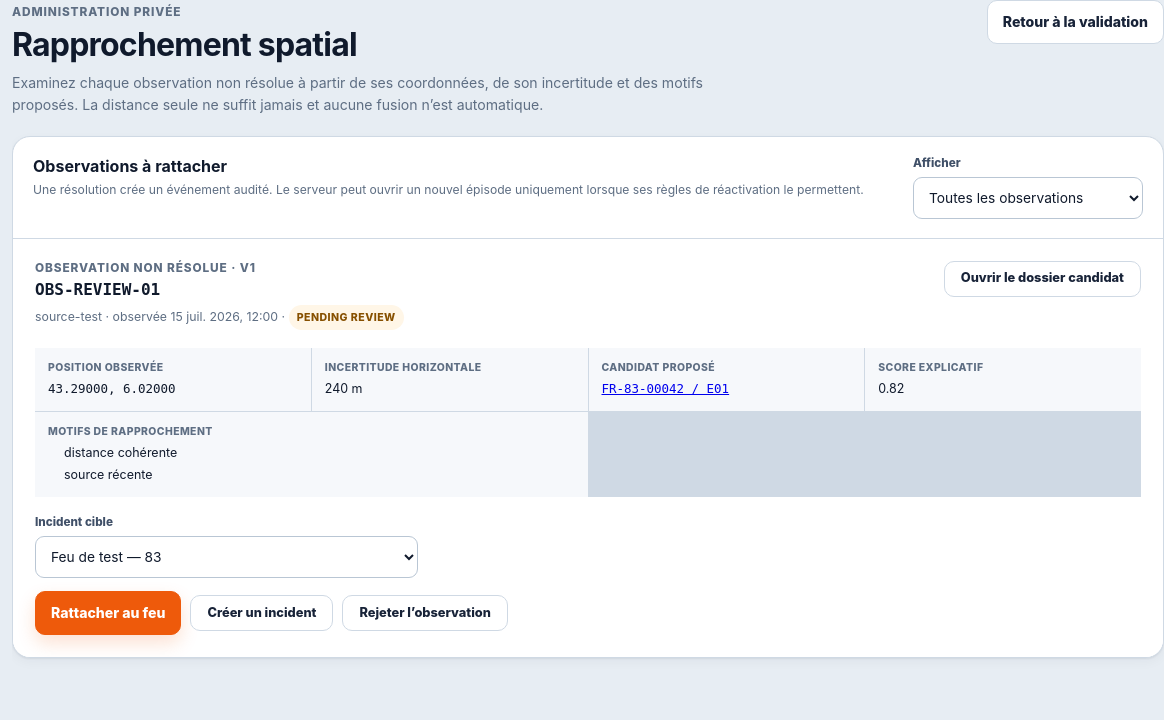
pages de workflow administrateur › résout un rapprochement spatial motivé avec le contrat opérateur existant
Expected: the heading "Observations à rattacher" is shown, [33, 156, 227, 176]
Expected: the list item "distance cohérente" is shown, [64, 445, 177, 460]
Click the button "Rattacher au feu": click(108, 613) [35, 591, 181, 635]
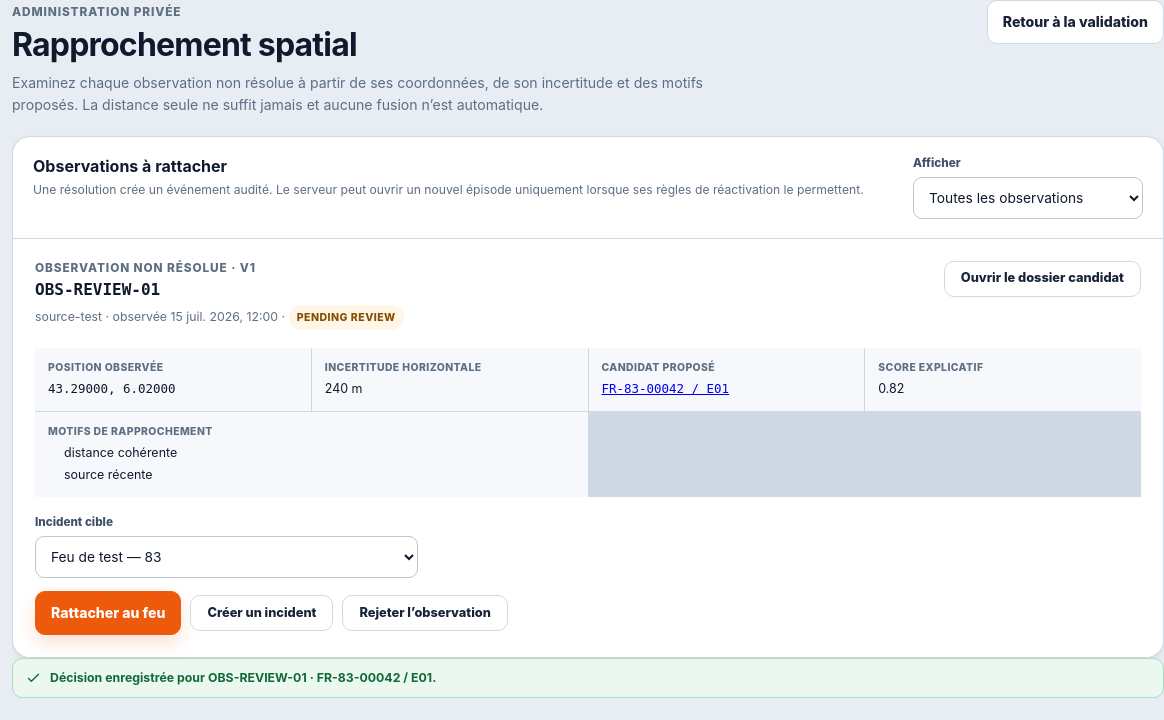
Result: the text "Décision enregistrée pour OBS-REVIEW-01 · FR-83-00042 / E01." is shown at [50, 669, 436, 687]
